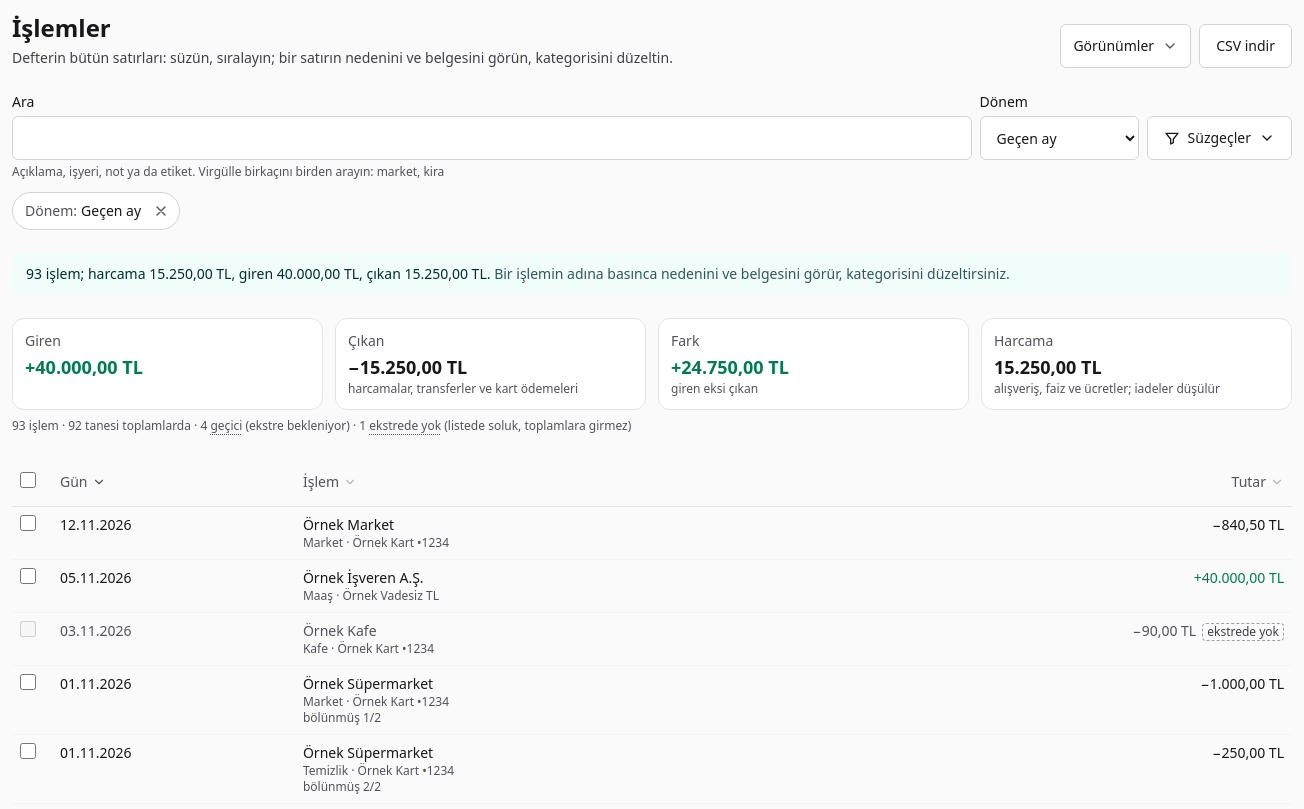
Scenario: TransactionsPage: the list › opens two day fields for days of one's own, which take the place of a named period
Select "Tarih aralığı seç…" in the dropdown labelled "Dönem" at {"x": 1059, "y": 138}, box left=980, top=116, right=1139, bottom=160
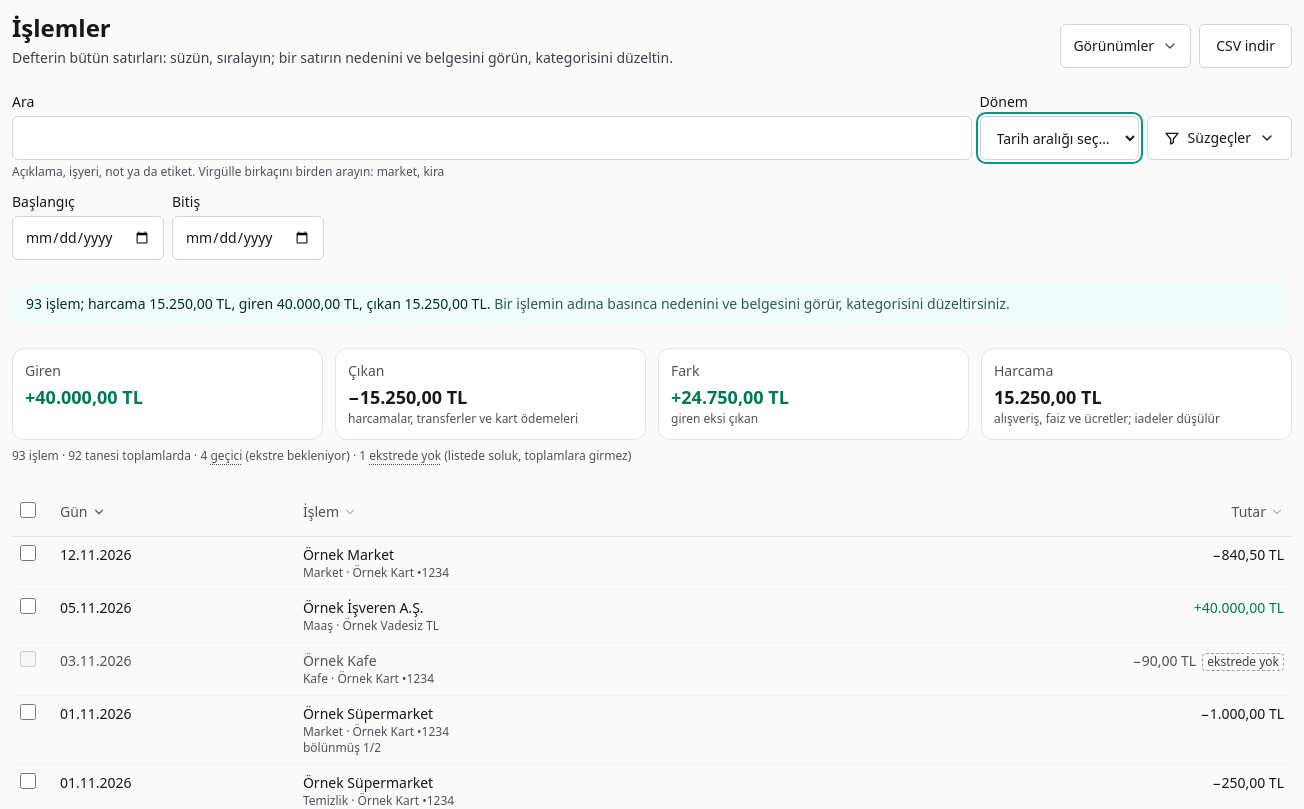
Type "2026-10-05" into the date field labelled "Başlangıç".
click(88, 238); type("2026-10-05")  # box left=12, top=216, right=164, bottom=260
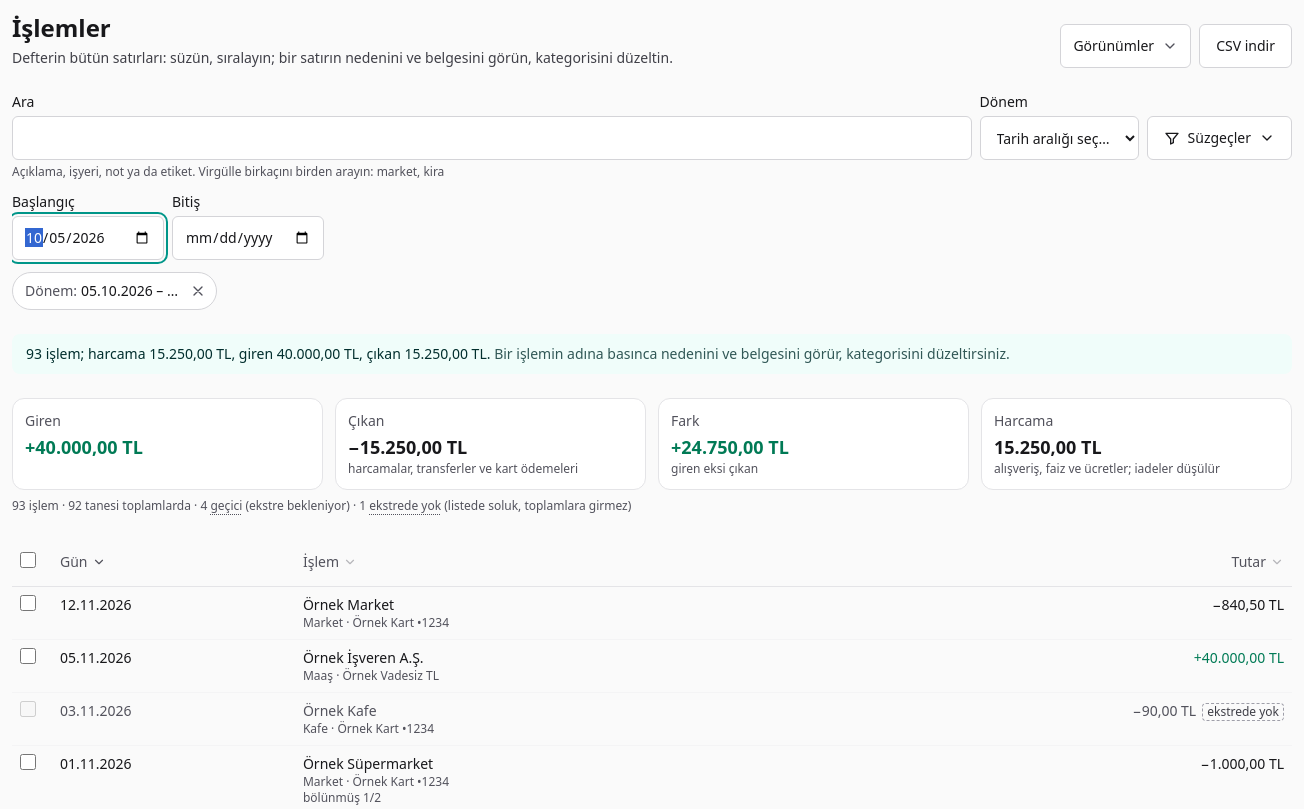
Click the button named "Dönem süzgecini kaldır".
click(198, 291)  # box left=182, top=275, right=214, bottom=307
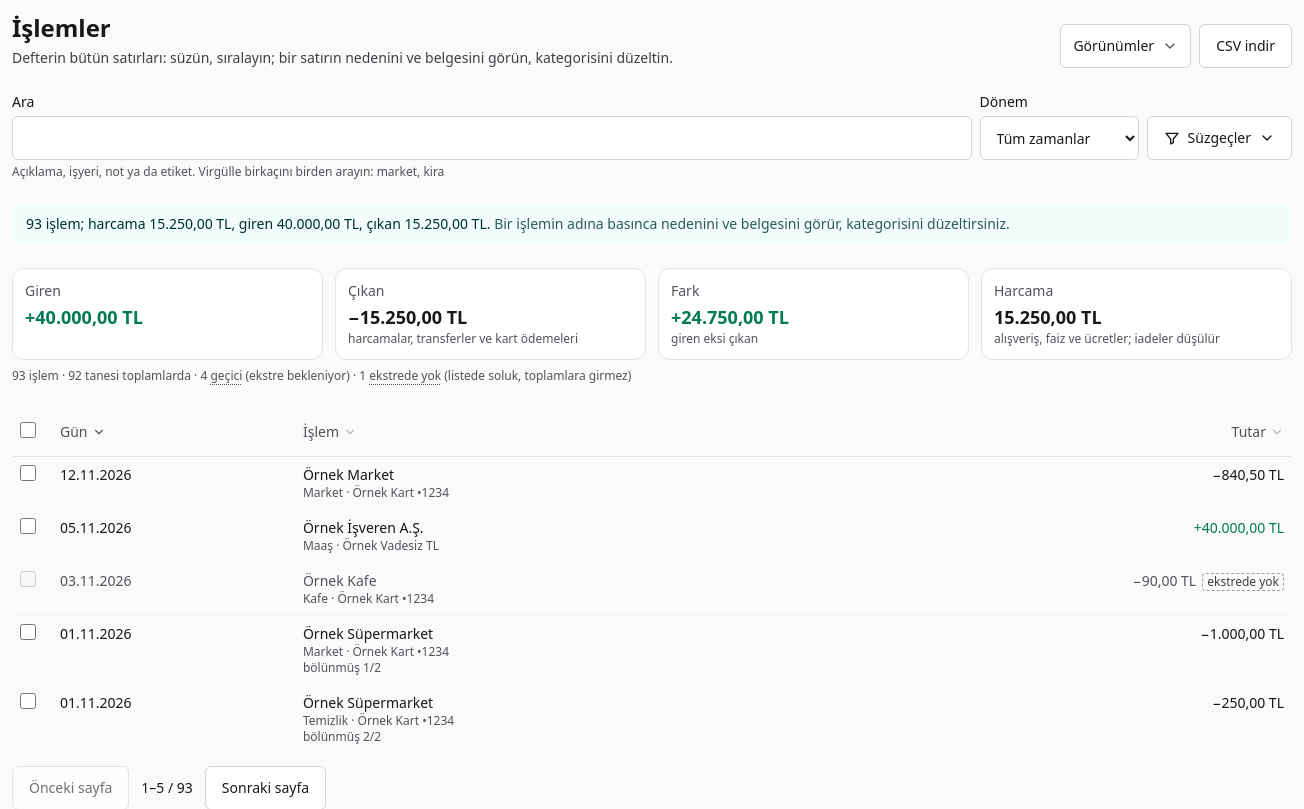
Expected: the label labelled "Başlangıç" is gone
